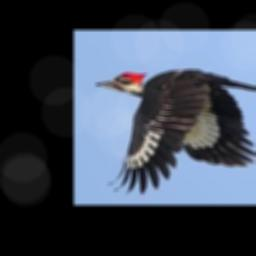Woodpecker: (96, 68, 256, 194)
